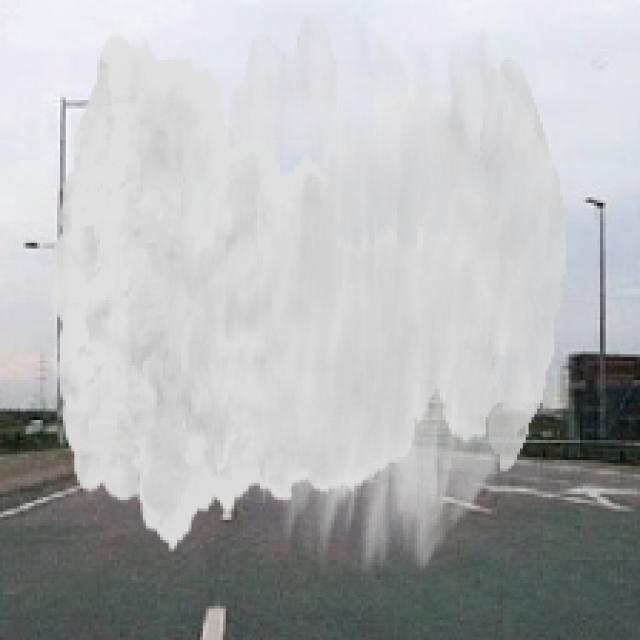smoke: (48, 14, 566, 574)
